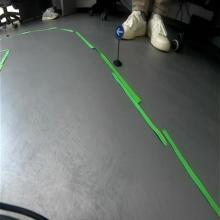left: (114, 24, 125, 40)
